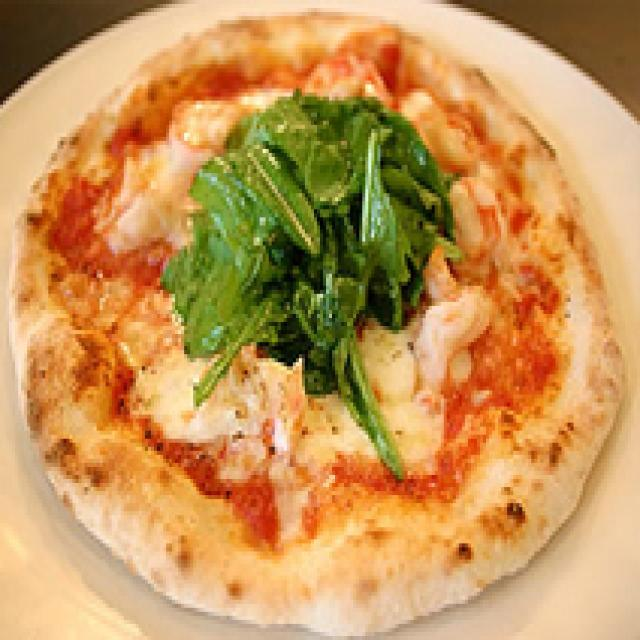Pizza: (7, 20, 629, 630)
